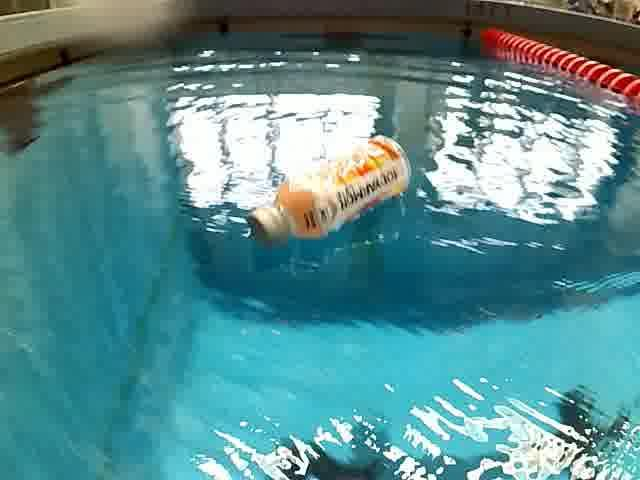Bottle: (235, 132, 415, 252)
